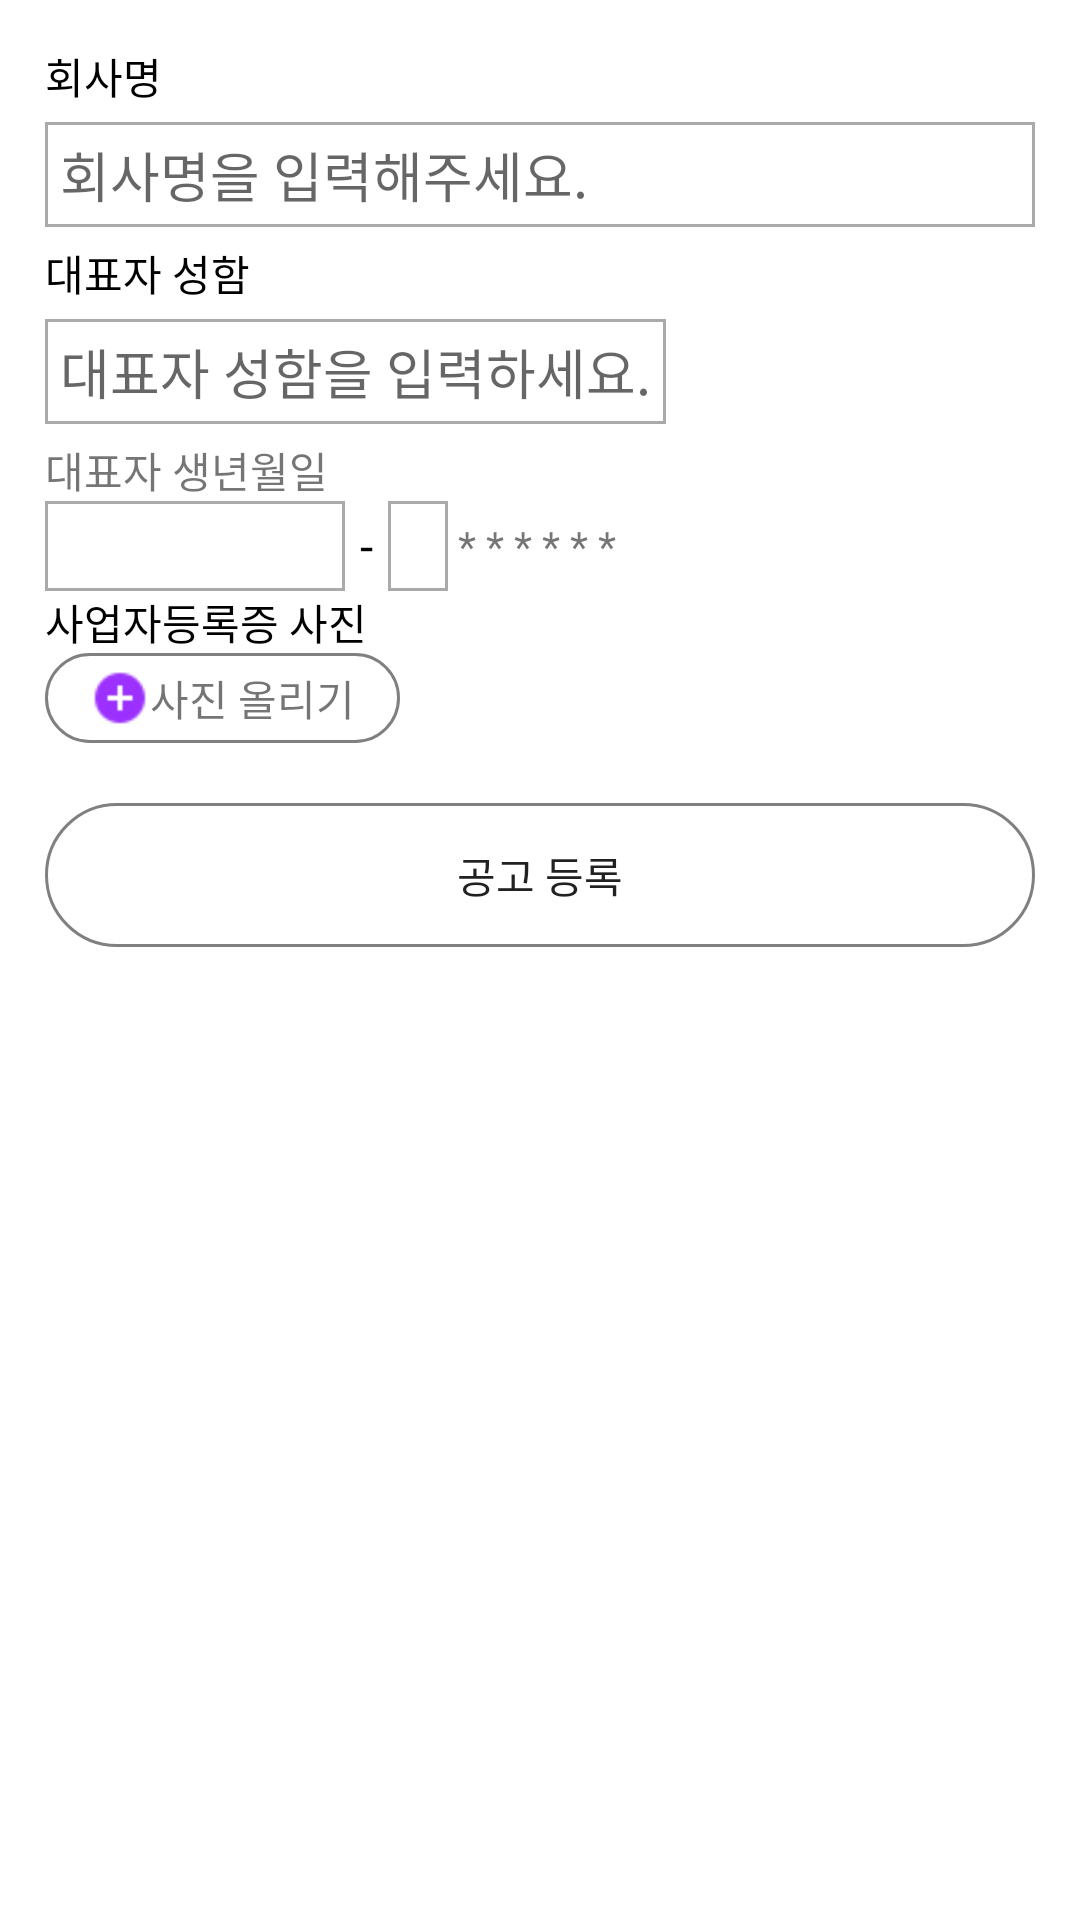

Screen size 1080 × 1920. Icon name, then its center in pixels as [x,y]:
plus: [120,698]
